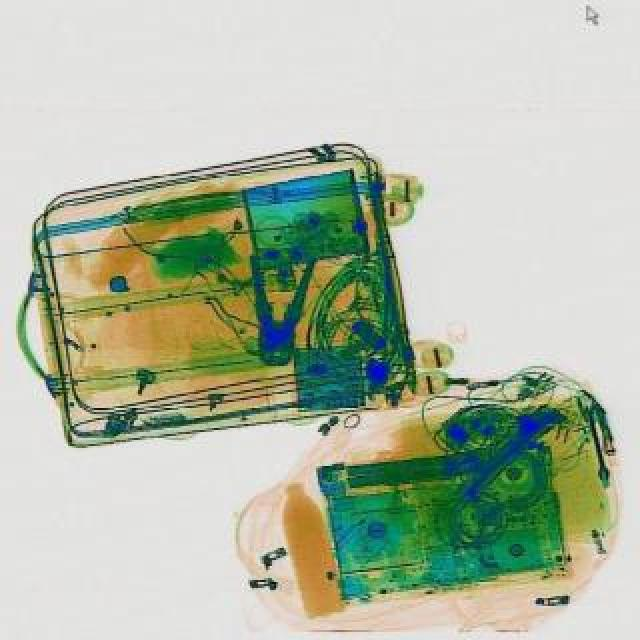wrench: (240, 252, 314, 368)
